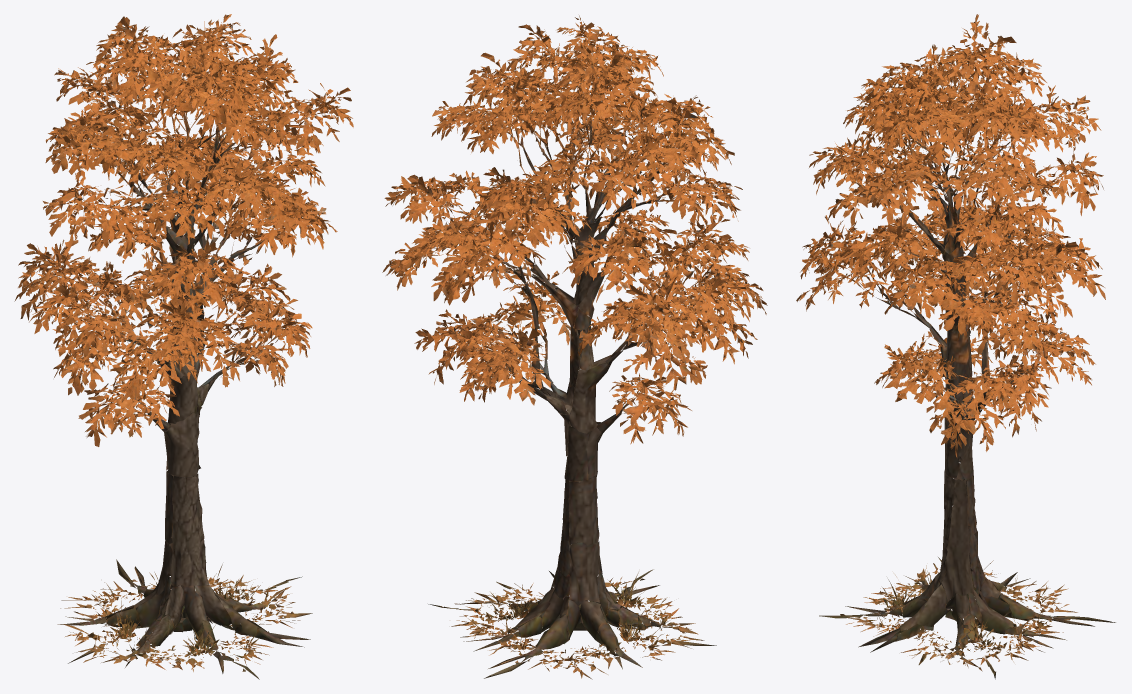
File: tree_ember_near.glb
3 renders of one model, left to right at view 1: azimuth 30°, elevation 25°; view 2: azimuth 150°, elevation 25°; view 3: azimuth 270°, elevation 25°, orthographic. The views are drawn at different scales.
Parts seen in each view (by area): view 1: Mesh_0; view 2: Mesh_0; view 3: Mesh_0.
Part boxes in pixels (box(x1,y1,x2,y2)): Mesh_0: box(14, 14, 353, 679); Mesh_0: box(382, 15, 767, 679); Mesh_0: box(796, 14, 1115, 679).
Bounding box in the file's own units: 1.07 × 1.92 × 0.9518.
1 material, 1 textured.
